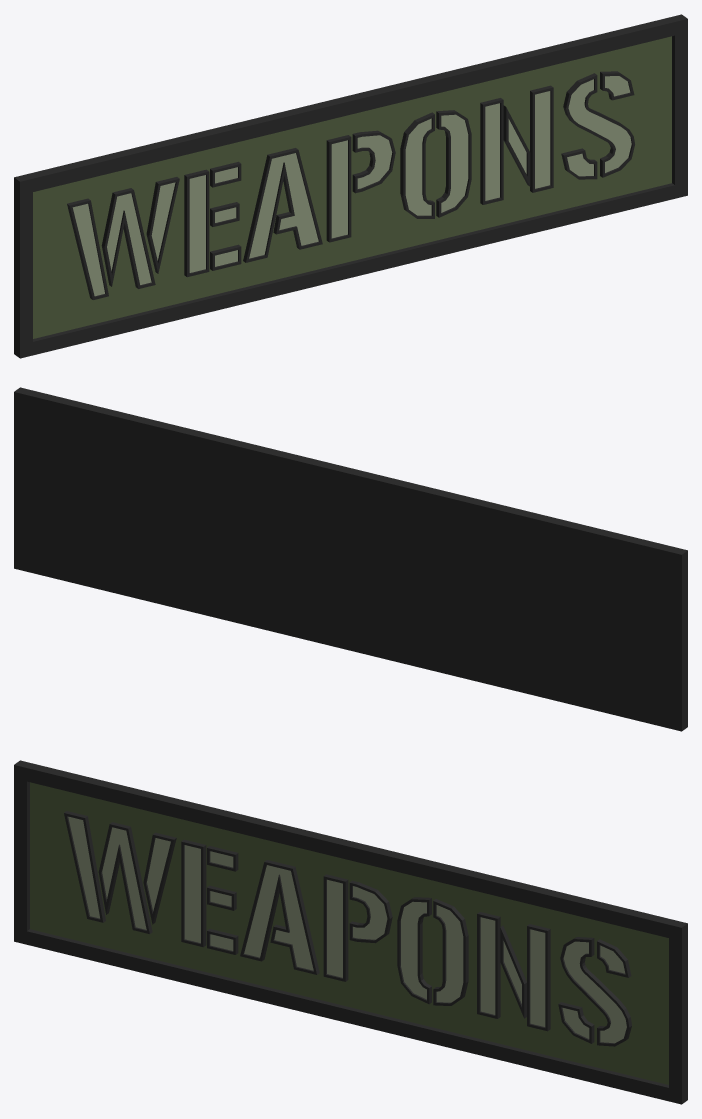
Rendered from SM_BuildingsDecor_48.fbx.
3 views of the same model, one above another, from view 1: azimuth 30°, elevation 25°; view 2: azimuth 150°, elevation 25°; view 3: azimuth 330°, elevation 25° (orthographic).
Parts seen in each view (by area): view 1: SM_BuildingsDecor_48; view 2: SM_BuildingsDecor_48; view 3: SM_BuildingsDecor_48.
Boxes of the visible parts, bbox=[...] form: SM_BuildingsDecor_48: bbox=[14, 14, 687, 358]; SM_BuildingsDecor_48: bbox=[14, 387, 687, 731]; SM_BuildingsDecor_48: bbox=[14, 760, 687, 1104].
Size of the model in its own units: 2.82 by 0.7135 by 0.045.
